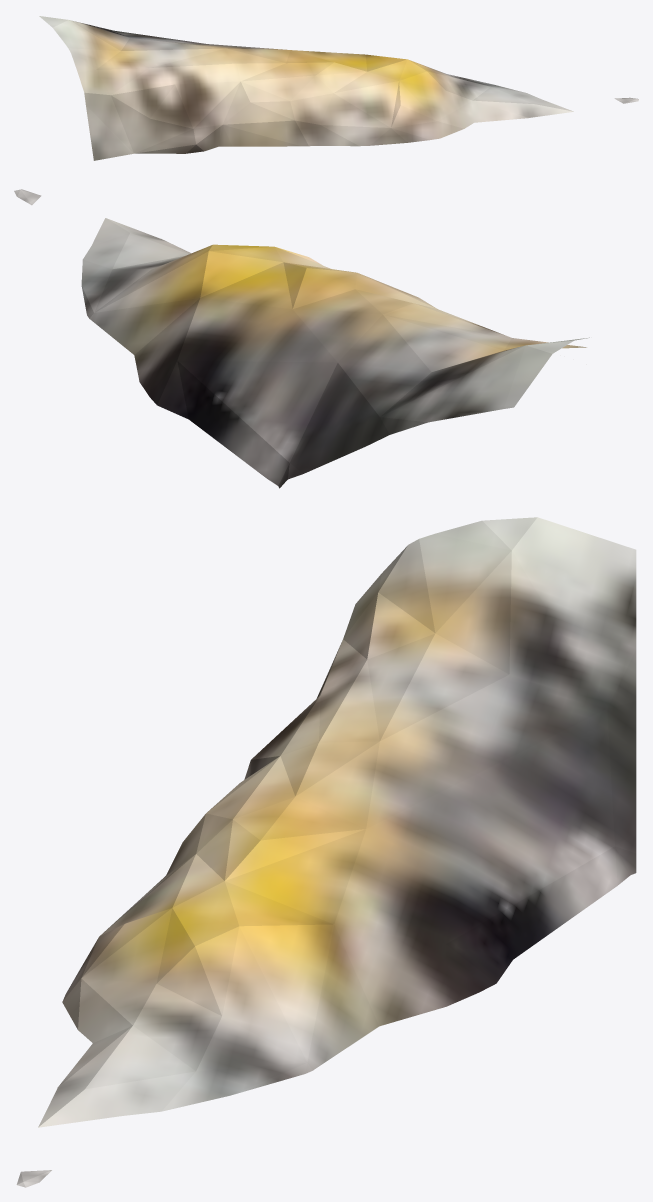
The picture shows the model from 3 angles, top to bottom: view 1: azimuth 30°, elevation 25°; view 2: azimuth 150°, elevation 25°; view 3: azimuth 270°, elevation 25°; orthographic projection. The views are drawn at different scales.
Size of the model in its own units: 0.6861 by 0.1454 by 0.3899.
Materials: 1 (1 with a texture image).
